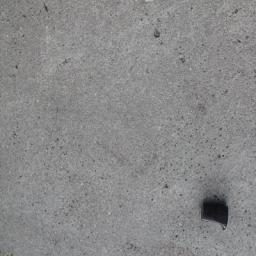FOD: (200, 197, 234, 235)
